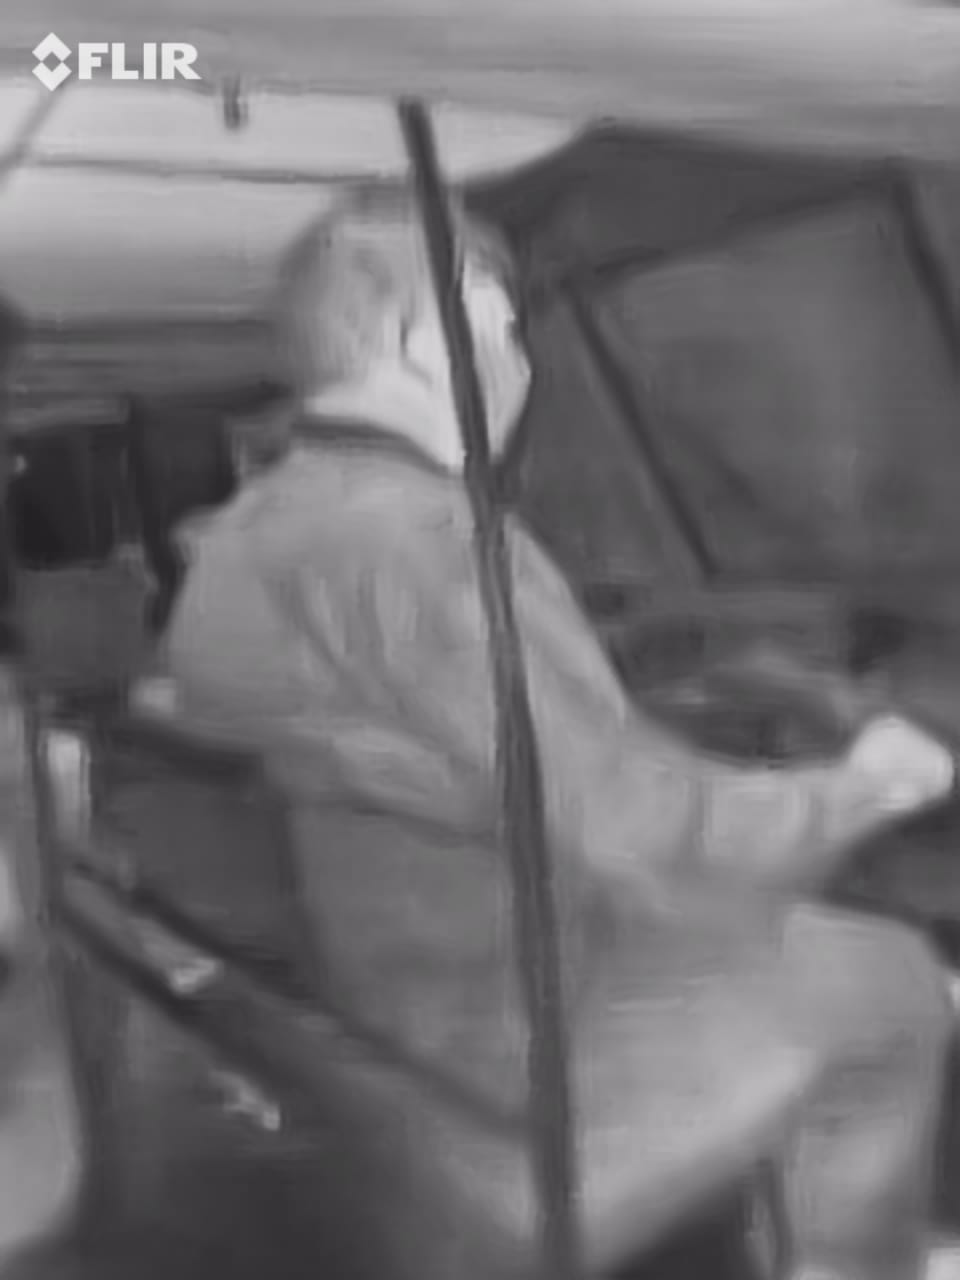head: (264, 177, 574, 487)
